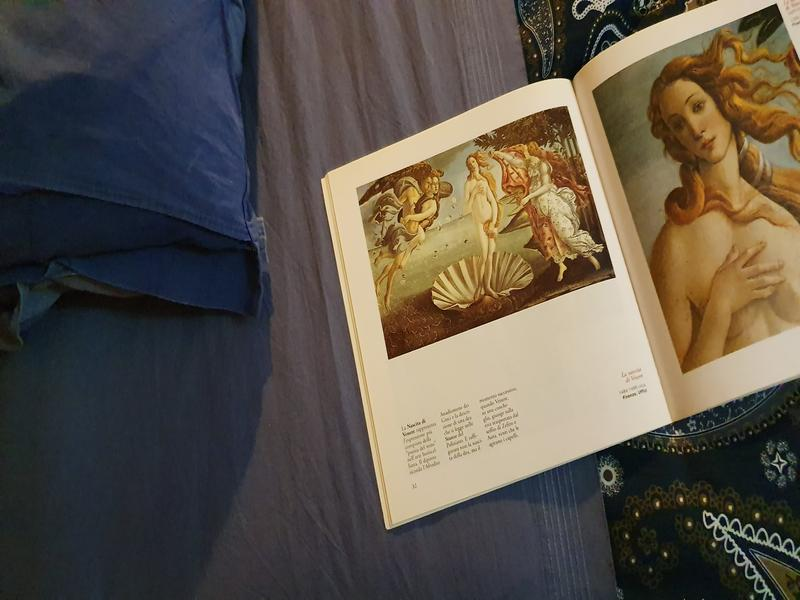Venere: (354, 104, 617, 362)
